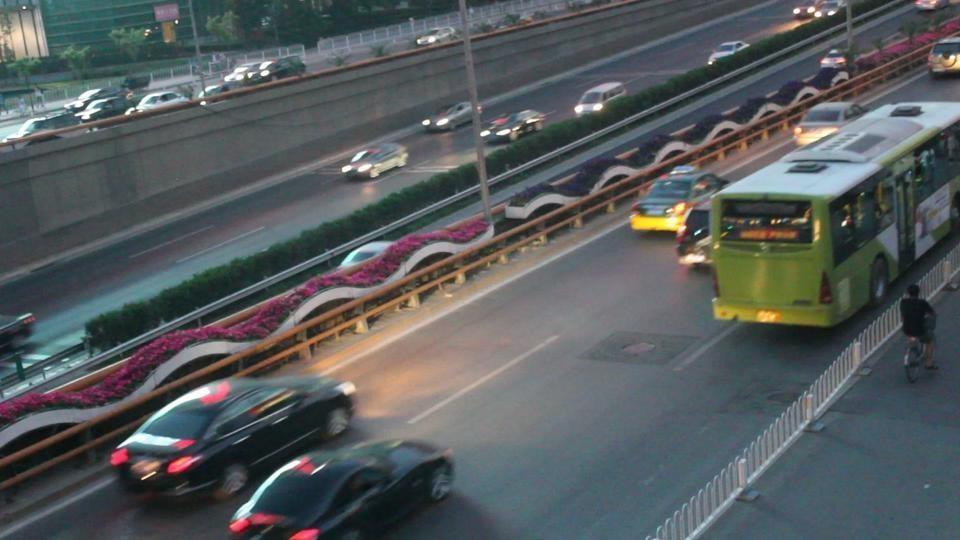car: (109, 374, 358, 507), (227, 436, 454, 539), (505, 154, 639, 225), (628, 165, 727, 235), (792, 101, 869, 148), (1, 112, 82, 145), (341, 142, 408, 181), (481, 109, 546, 145), (676, 206, 712, 267), (574, 81, 628, 117), (72, 90, 134, 120), (422, 101, 475, 132), (0, 313, 38, 354), (129, 91, 191, 116), (927, 36, 960, 78), (706, 40, 751, 66), (794, 0, 844, 20), (223, 63, 267, 84), (266, 56, 306, 78), (416, 28, 459, 47), (242, 60, 276, 81)
